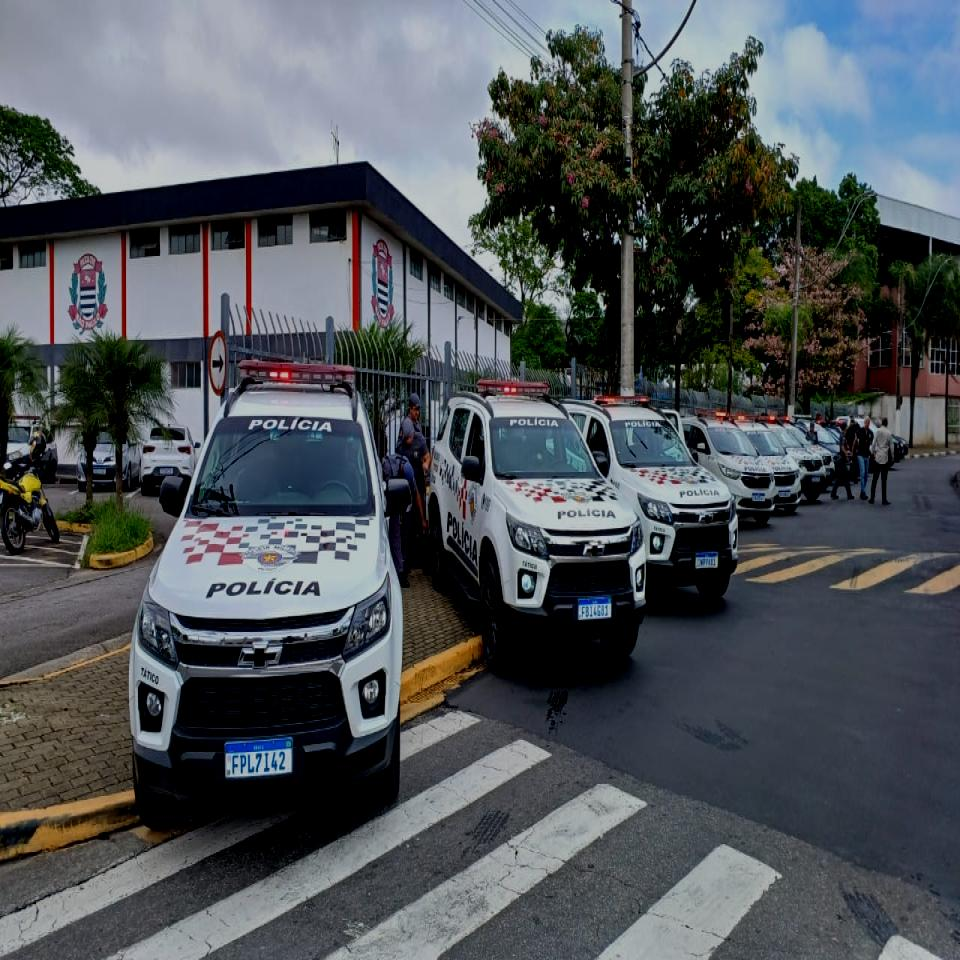viatura: (128, 355, 414, 834), (425, 376, 650, 676), (564, 391, 739, 605)
